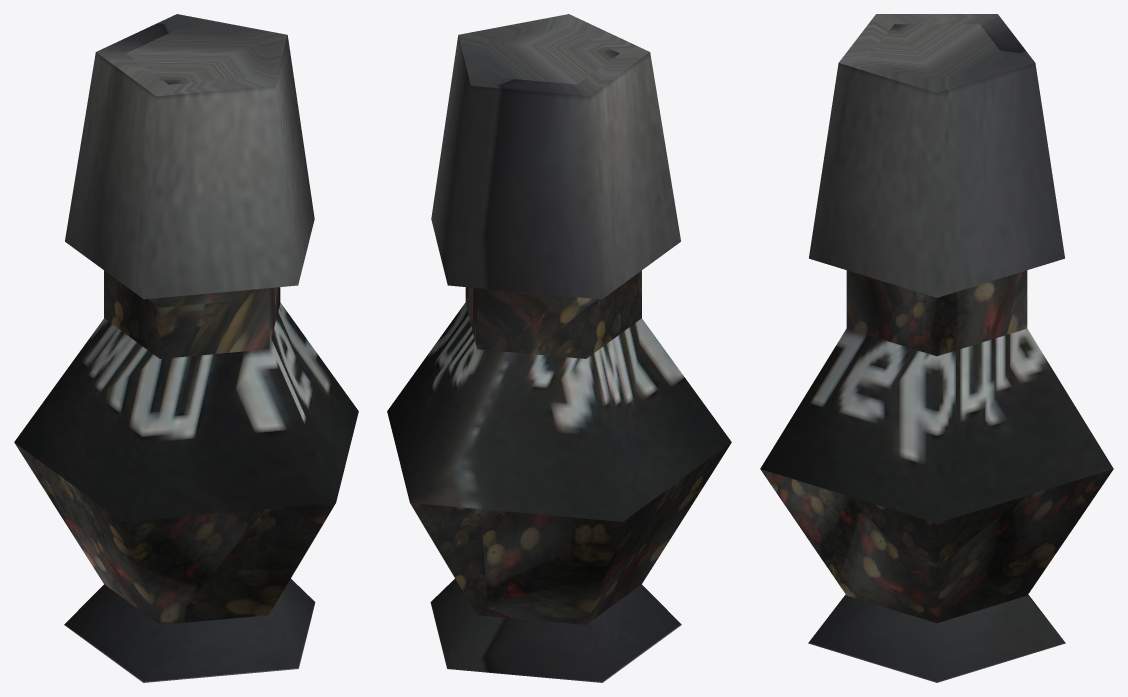
Rendered from pepper.FBX.
3 renders of one model, left to right at view 1: azimuth 30°, elevation 25°; view 2: azimuth 150°, elevation 25°; view 3: azimuth 270°, elevation 25°, orthographic.
Visible parts, largest first — view 1: Object002, Object001, Cylinder001, Object003, Object004; view 2: Object002, Object001, Cylinder001, Object003, Object004; view 3: Object001, Object002, Cylinder001, Object003, Object004.
Boxes of the visible parts, left/top/right/bottom form: Object002: left=14, top=302, right=358, bottom=521; Object001: left=65, top=35, right=314, bottom=299; Cylinder001: left=14, top=270, right=335, bottom=624; Object003: left=64, top=579, right=315, bottom=682; Object004: left=96, top=14, right=287, bottom=96; Object002: left=387, top=302, right=731, bottom=521; Object001: left=431, top=35, right=680, bottom=299; Cylinder001: left=410, top=270, right=731, bottom=624; Object003: left=430, top=579, right=681, bottom=682; Object004: left=458, top=14, right=649, bottom=96; Object001: left=809, top=63, right=1064, bottom=297; Object002: left=760, top=328, right=1113, bottom=522; Cylinder001: left=760, top=270, right=1113, bottom=623; Object003: left=808, top=594, right=1065, bottom=682; Object004: left=839, top=14, right=1034, bottom=92.
Size of the model in its own units: 151 by 285 by 158.
Materials: 3 (3 with a texture image).
